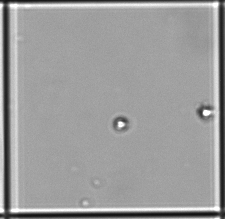Living Cell: (114, 117, 128, 132), (198, 106, 214, 119)
